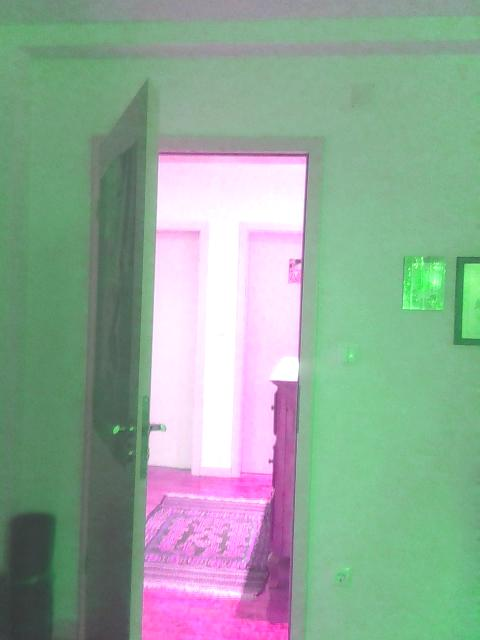semi_door: (77, 70, 325, 639)
